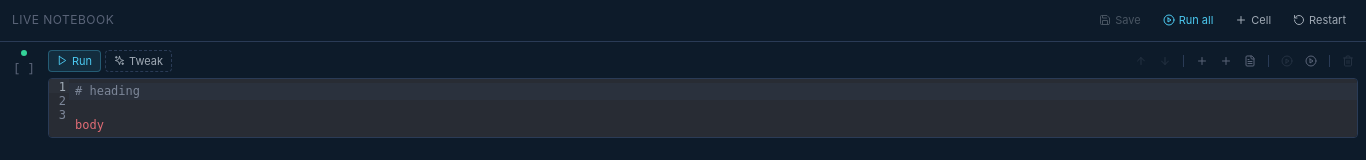
LivePanel › Convert to markdown turns a code cell into a markdown cell
Expected: the button with aria-label "Run cell" is shown, [48,50,101,72]
Click the button named "Convert to markdown".
click(1250, 61)  # box [1240,51,1260,71]
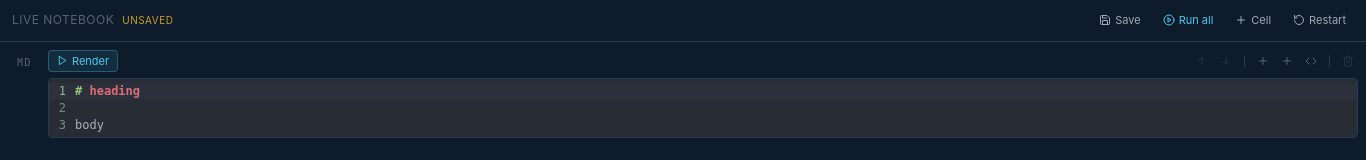
Now the button with aria-label "Preview markdown" is shown, box [48,50,118,72]
